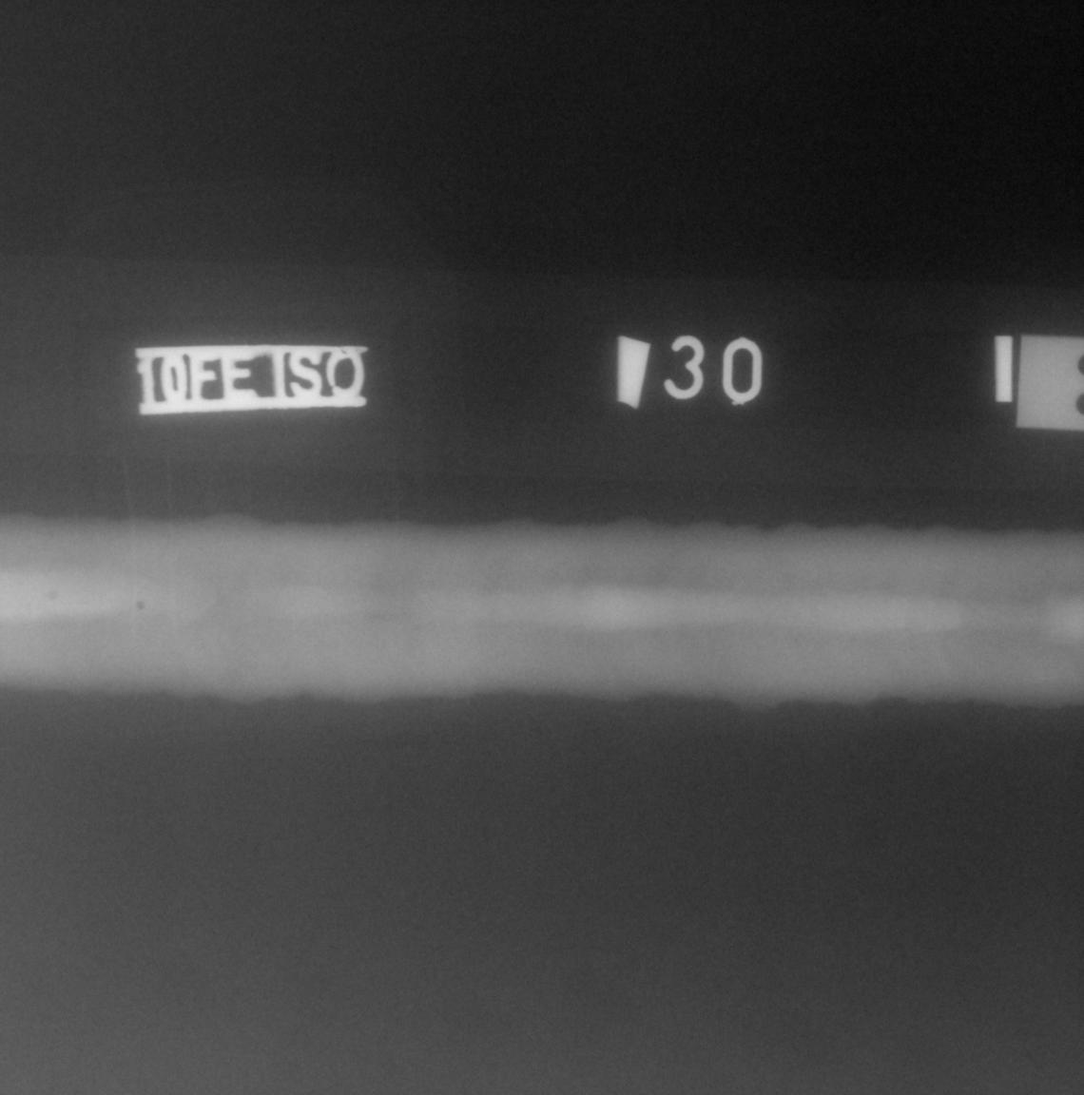Pore/Porosity: (48, 591, 56, 599), (137, 601, 143, 609)
